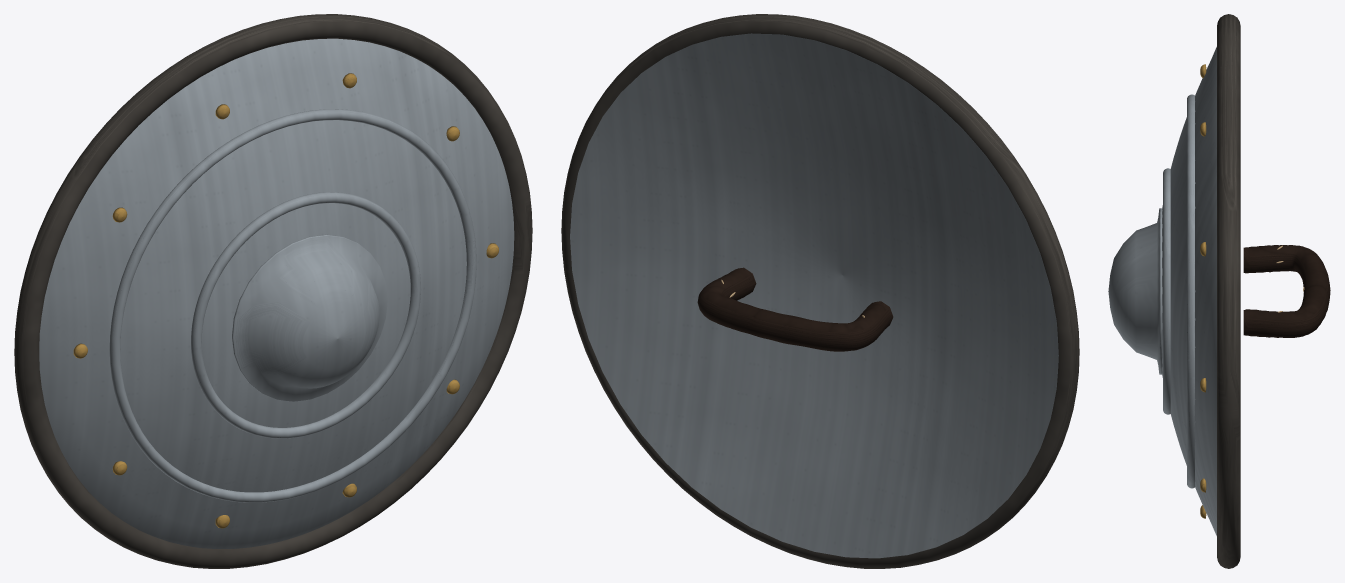
File: buckler.glb
3 views of the same model, side by side, from view 1: azimuth 30°, elevation 25°; view 2: azimuth 150°, elevation 25°; view 3: azimuth 270°, elevation 25° (orthographic). The views are drawn at different scales.
Parts seen in each view (by area): view 1: steel / forged blade steel, iron / hammer-scaled wrought iron, brass / polished brass furniture; view 2: steel / forged blade steel, iron / hammer-scaled wrought iron, leather / oiled leather wrap; view 3: steel / forged blade steel, iron / hammer-scaled wrought iron, leather / oiled leather wrap, brass / polished brass furniture.
Boxes of the visible parts, box(x1,y1,x2,y2) form: steel / forged blade steel: box(39, 38, 514, 548); iron / hammer-scaled wrought iron: box(14, 14, 532, 568); brass / polished brass furniture: box(73, 73, 498, 528); steel / forged blade steel: box(570, 33, 1058, 558); iron / hammer-scaled wrought iron: box(561, 14, 1079, 568); leather / oiled leather wrap: box(697, 267, 893, 351); steel / forged blade steel: box(1108, 47, 1216, 535); iron / hammer-scaled wrought iron: box(1217, 14, 1240, 568); leather / oiled leather wrap: box(1243, 245, 1330, 337); brass / polished brass furniture: box(1200, 64, 1206, 518).
Bounding box in the file's own units: 0.376 × 0.3757 × 0.1504.
6 materials, 4 textured.
